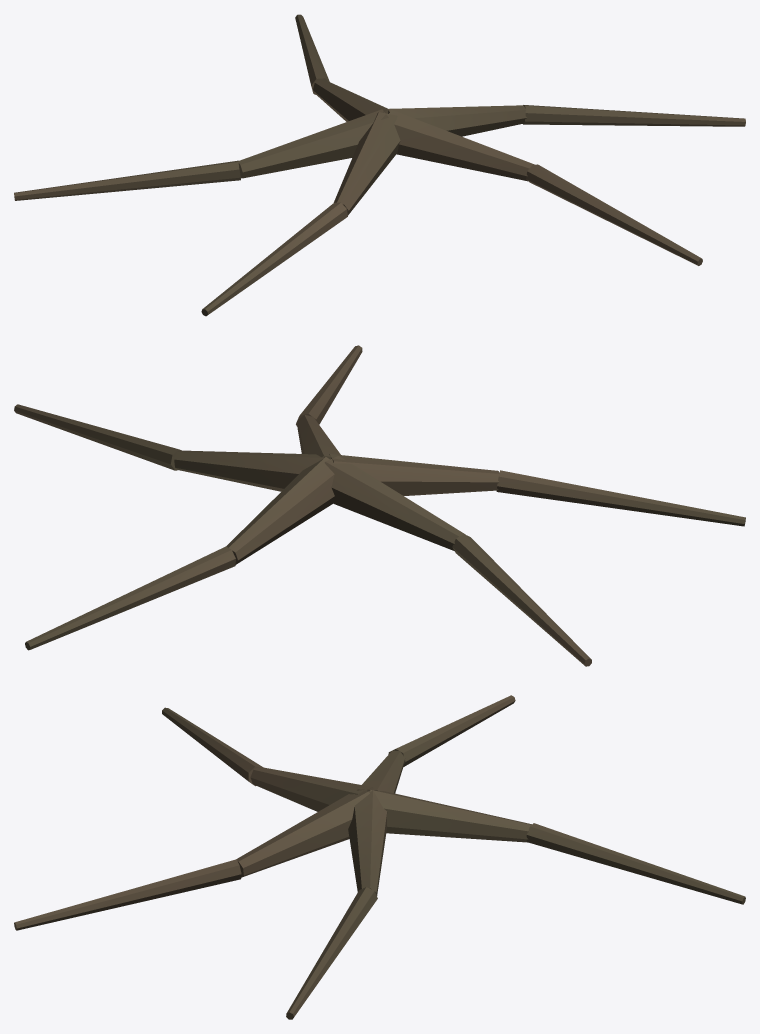
Rendered from taiga-roots.glb.
3 renders of one model, top to bottom at view 1: azimuth 30°, elevation 25°; view 2: azimuth 150°, elevation 25°; view 3: azimuth 270°, elevation 25°, orthographic. The views are drawn at different scales.
Parts seen in each view (by area): view 1: Выступающие лесные корни; view 2: Выступающие лесные корни; view 3: Выступающие лесные корни.
Part boxes in pixels (x1,y1,x2,y2): Выступающие лесные корни: (14,14,745,316); Выступающие лесные корни: (14,345,745,666); Выступающие лесные корни: (14,695,745,1019).
Size of the model in its own units: 4.61 by 0.4656 by 4.48.
